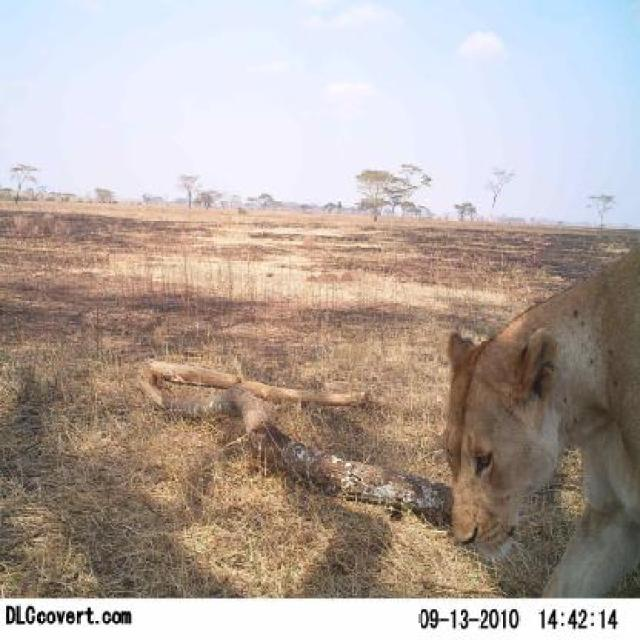Lion: (428, 230, 638, 596)
